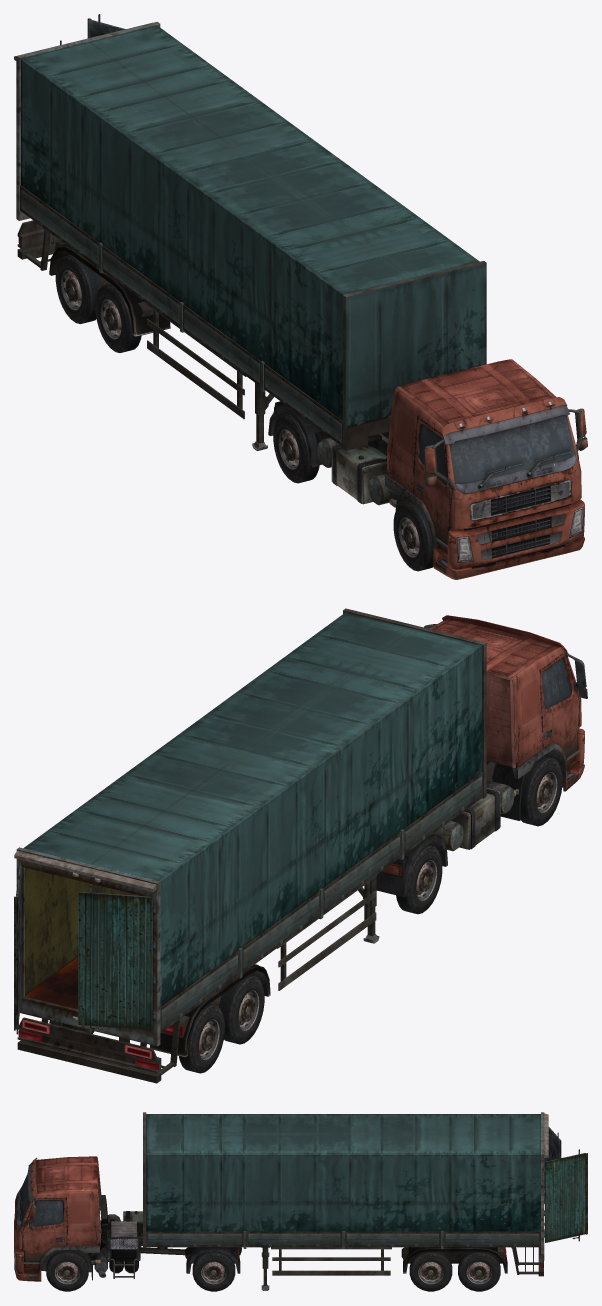
Rendered from truck.glb.
3 renders of one model, top to bottom at view 1: azimuth 30°, elevation 25°; view 2: azimuth 150°, elevation 25°; view 3: azimuth 270°, elevation 25°, orthographic. The views are drawn at different scales.
Parts seen in each view (by area): view 1: trailer_01, truck_01, truck_01_wheel04, truck_01_wheel07, truck_01_wheel05, truck_01_wheel06; view 2: trailer_01, truck_01, veh_trailer_01_door_r, truck_01_wheel07, truck_01_wheel05, truck_01_wheel04, truck_01_wheel06, trailer_01_door_l; view 3: trailer_01, truck_01, trailer_01_door_l, truck_01_wheel01, truck_01_wheel02, truck_01_wheel03, truck_01_wheel, veh_trailer_01_door_r.
Part boxes in pixels (<box>): trailer_01: <box>14,21,486,450</box>; truck_01: <box>268,359,587,579</box>; truck_01_wheel04: <box>55,254,101,323</box>; truck_01_wheel07: <box>393,501,433,571</box>; truck_01_wheel05: <box>95,283,141,352</box>; truck_01_wheel06: <box>273,414,319,483</box>; trailer_01: <box>14,608,486,1083</box>; truck_01: <box>376,615,587,897</box>; veh_trailer_01_door_r: <box>78,884,155,1035</box>; truck_01_wheel07: <box>520,756,562,826</box>; truck_01_wheel05: <box>219,975,264,1044</box>; truck_01_wheel04: <box>179,1004,224,1073</box>; truck_01_wheel06: <box>396,844,442,914</box>; trailer_01_door_l: <box>14,865,21,1034</box>; trailer_01: <box>143,1112,548,1290</box>; truck_01: <box>14,1156,241,1281</box>; trailer_01_door_l: <box>544,1149,587,1242</box>; truck_01_wheel01: <box>46,1250,88,1291</box>; truck_01_wheel02: <box>409,1251,452,1291</box>; truck_01_wheel03: <box>458,1251,500,1291</box>; truck_01_wheel: <box>192,1252,235,1291</box>; veh_trailer_01_door_r: <box>544,1127,561,1203</box>.
Bounding box in the file's own units: 4.28 × 5.74 × 21.42.
Materials: 4 (4 with a texture image).
